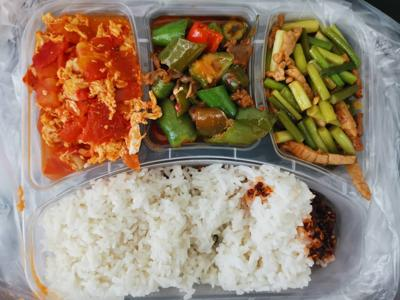cqj: (149, 12, 264, 152)
jdxhs: (31, 14, 142, 172)
rice: (54, 176, 315, 295)
st: (270, 14, 370, 176)
